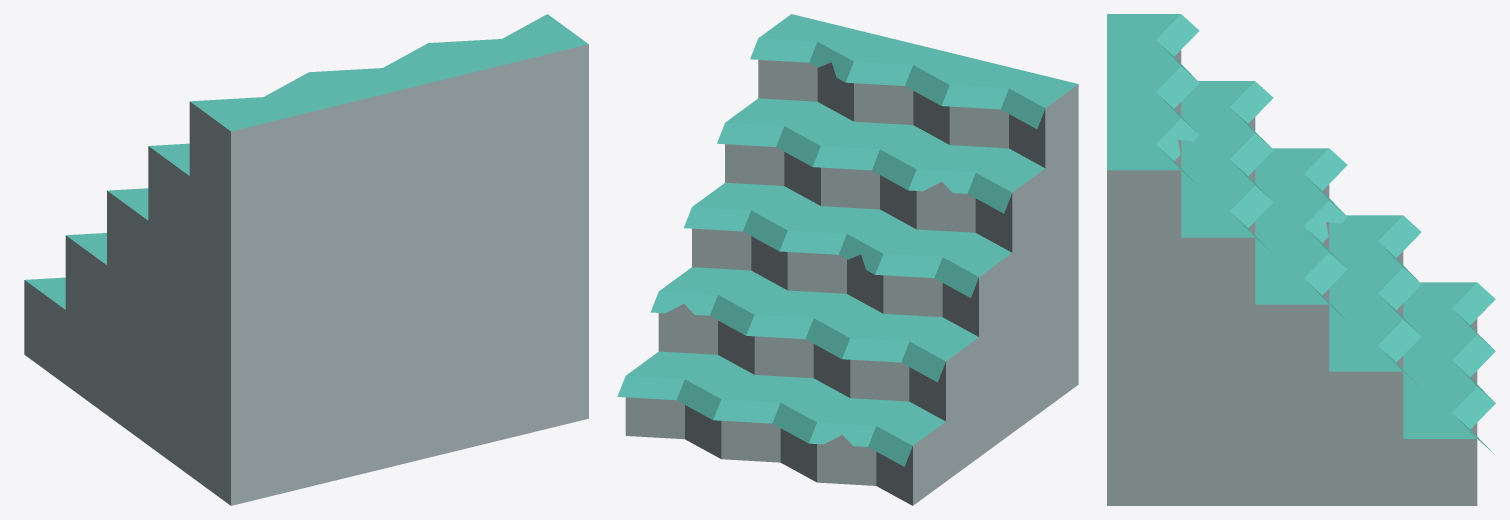
The model's file is cliff_steps_stone.glb.
3 views of the same model, side by side, from view 1: azimuth 30°, elevation 25°; view 2: azimuth 150°, elevation 25°; view 3: azimuth 270°, elevation 25° (orthographic). The views are drawn at different scales.
Parts seen in each view (by area): view 1: cliff_steps_stone; view 2: cliff_steps_stone; view 3: cliff_steps_stone.
Boxes of the visible parts, x1=… form: cliff_steps_stone: x1=24, y1=14, x2=588, y2=505; cliff_steps_stone: x1=617, y1=14, x2=1078, y2=505; cliff_steps_stone: x1=1107, y1=14, x2=1495, y2=505.
Bounding box in the file's own units: 1 × 1 × 1.05.
